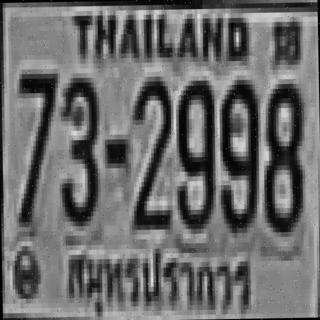N02: (130, 74, 171, 228)
N03: (57, 73, 98, 222)
N07: (14, 69, 57, 222)
N08: (260, 79, 303, 232)
N09: (172, 76, 214, 229), (217, 75, 258, 228)
P57: (63, 239, 260, 320)
